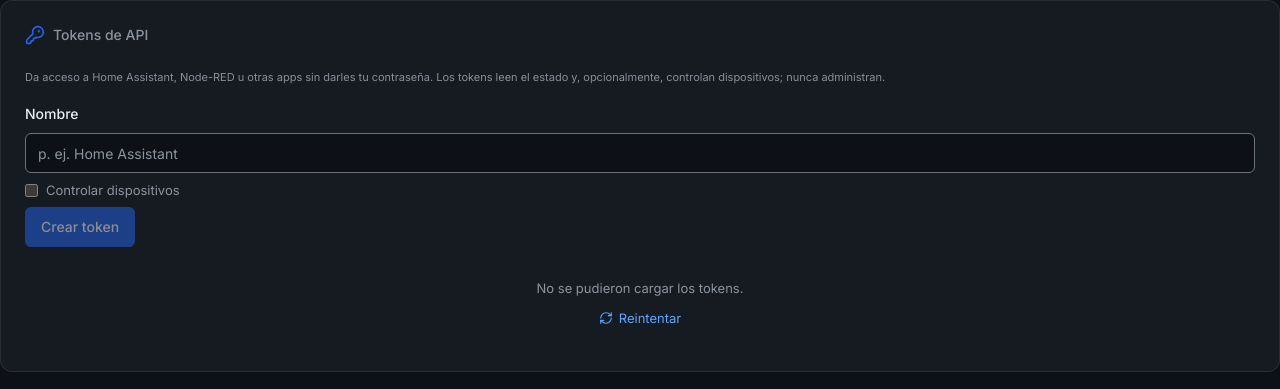
Test: ApiTokensCard: un fallo de carga no es «no hay tokens» › si la lista falla lo dice con reintento y no afirma que no hay tokens
Expected: the text "No se pudieron cargar los tokens." is shown, [536,279,743,297]
Click the button "Reintentar": click(640, 318) [591,305,689,331]
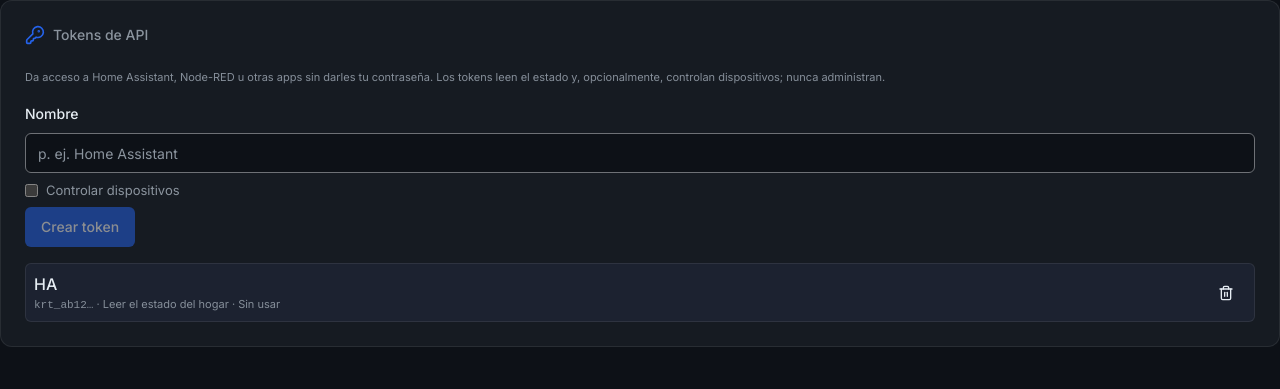
Now the text "HA" is shown, box [34,274,57,294]
Now the text "No se pudieron cargar los tokens." is gone
